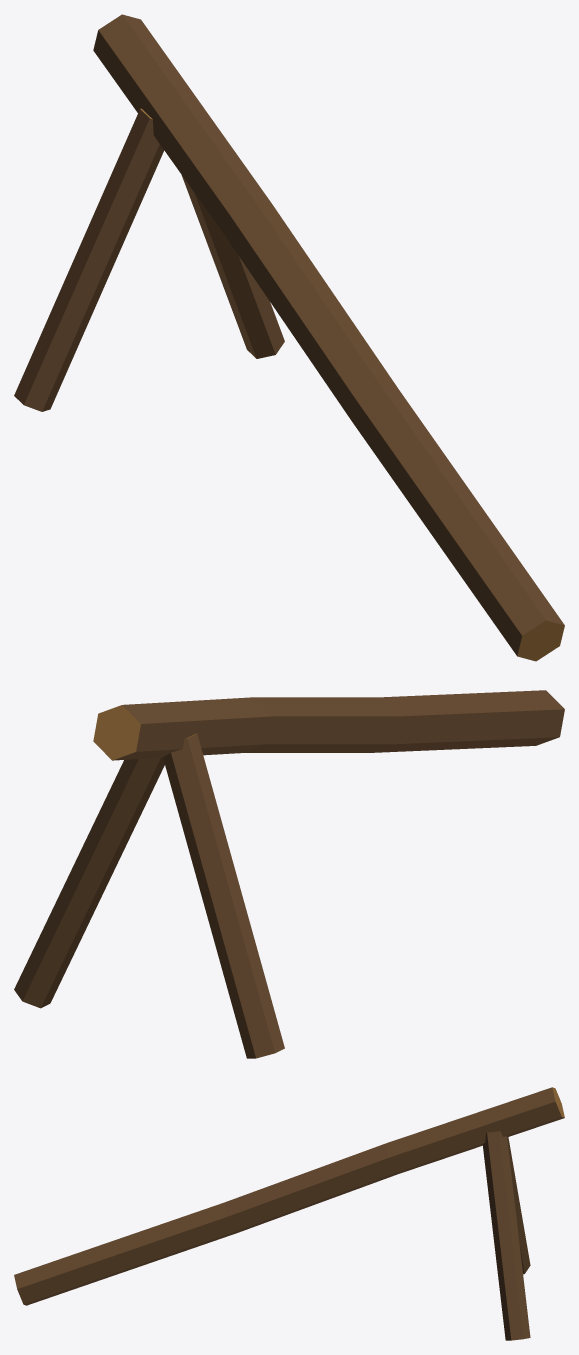
The model's file is log-ramp.glb.
3 renders of one model, top to bottom at view 1: azimuth 30°, elevation 25°; view 2: azimuth 150°, elevation 25°; view 3: azimuth 270°, elevation 25°, orthographic. The views are drawn at different scales.
Visible parts, largest first — view 1: log-ramp; view 2: log-ramp; view 3: log-ramp.
Part boxes in pixels (box(x1,y1,x2,y2)): log-ramp: box(14, 14, 564, 661); log-ramp: box(14, 690, 564, 1058); log-ramp: box(14, 1087, 564, 1340).
Bounding box in the file's own units: 1.41 × 1.79 × 4.06.
1 material, 1 textured.
